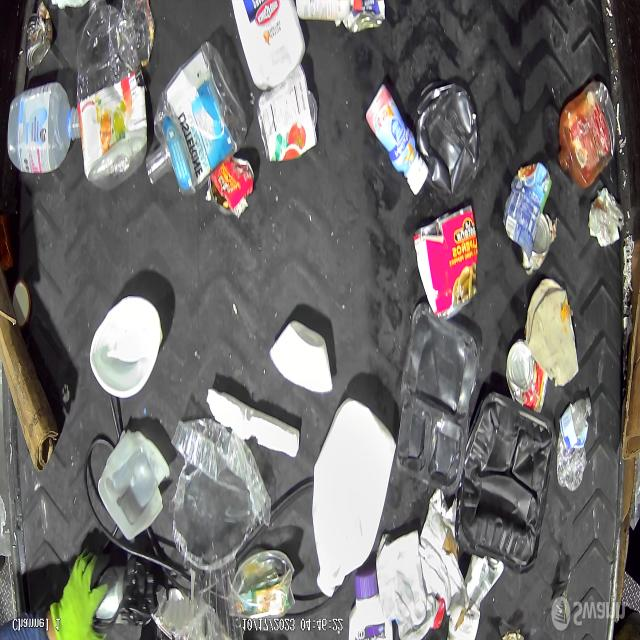can: (413, 204, 479, 323), (256, 62, 320, 163), (508, 340, 550, 414), (210, 157, 254, 216), (522, 212, 551, 276), (342, 1, 385, 35)
milk_jug: (313, 397, 398, 597)
non_white_jug: (409, 78, 482, 202)
plastic_bottle: (75, 0, 152, 189), (8, 81, 79, 176), (554, 394, 594, 488)
